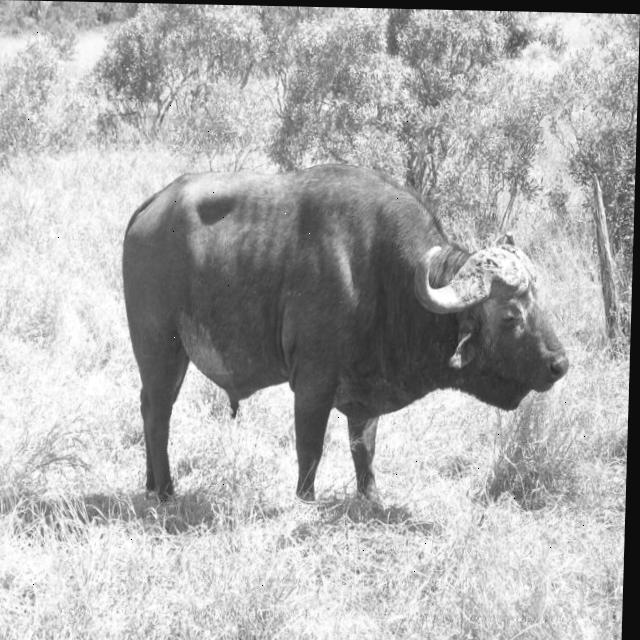Buffalo: (115, 161, 576, 518)
